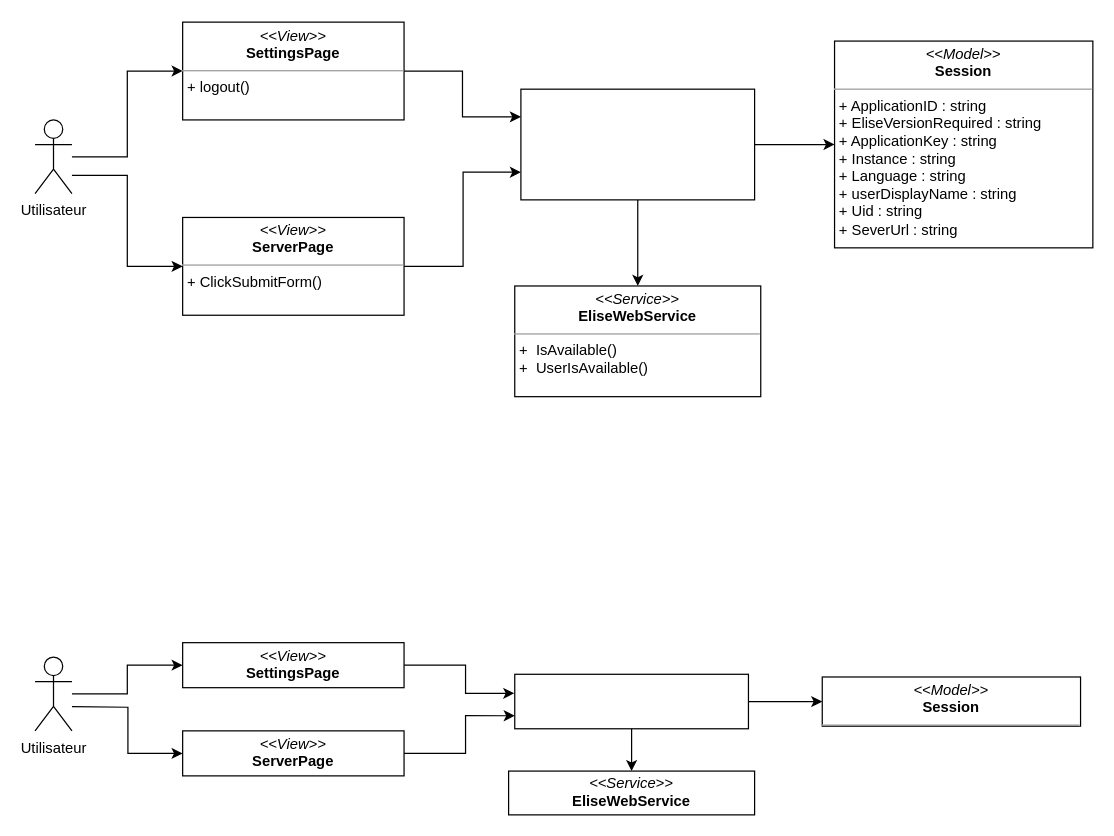
The diagram is 1114 pixels wide and 836 high, and some of its shapes have lost their labels. The box of each missing label's shape, as (x1, y1, x2, y2) in pixels:
<<ViewModel>> authStore: (514, 673, 748, 729)
<<ViewModel>> authStore + setServerUrl() + login() + logout(): (520, 88, 755, 200)
